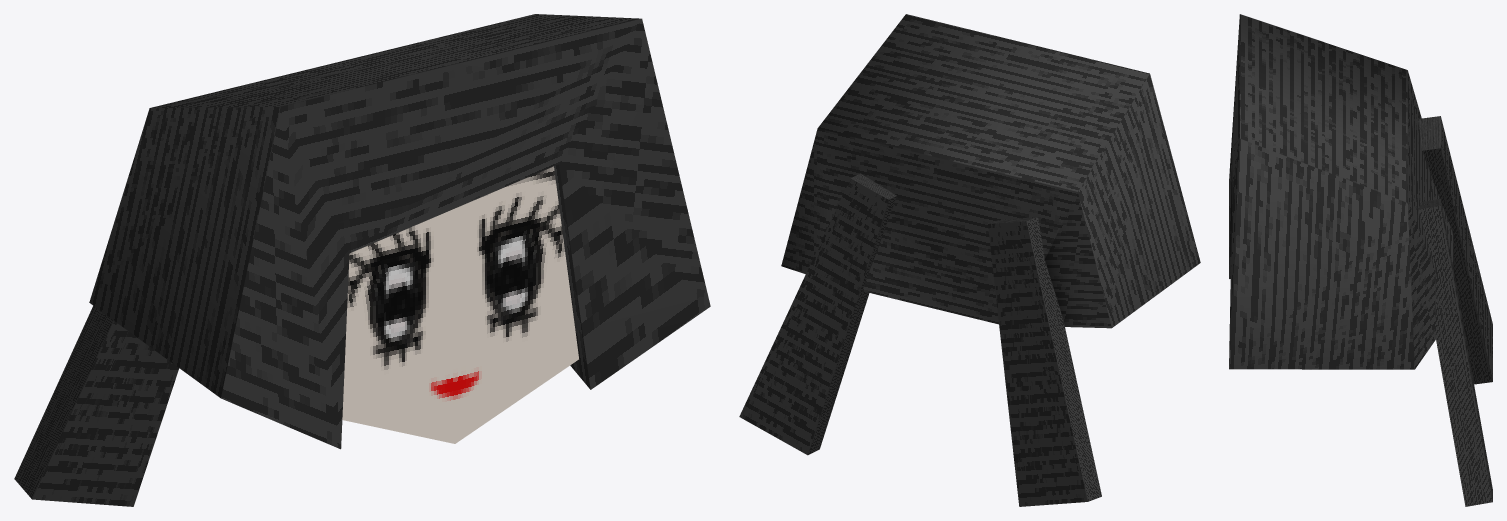
File: C_GH_Head_F9.FBX
The picture shows the model from 3 angles, left to right: view 1: azimuth 30°, elevation 25°; view 2: azimuth 150°, elevation 25°; view 3: azimuth 270°, elevation 25°; orthographic projection. The views are drawn at different scales.
Parts seen in each view (by area): view 1: Hair, Face; view 2: Hair; view 3: Hair.
Boxes of the visible parts, x1=… form: Hair: x1=14, y1=14, x2=710, y2=506; Face: x1=342, y1=166, x2=578, y2=443; Hair: x1=739, y1=14, x2=1200, y2=506; Hair: x1=1229, y1=14, x2=1492, y2=506.
Size of the model in its own units: 35.18 by 33.65 by 21.92.
